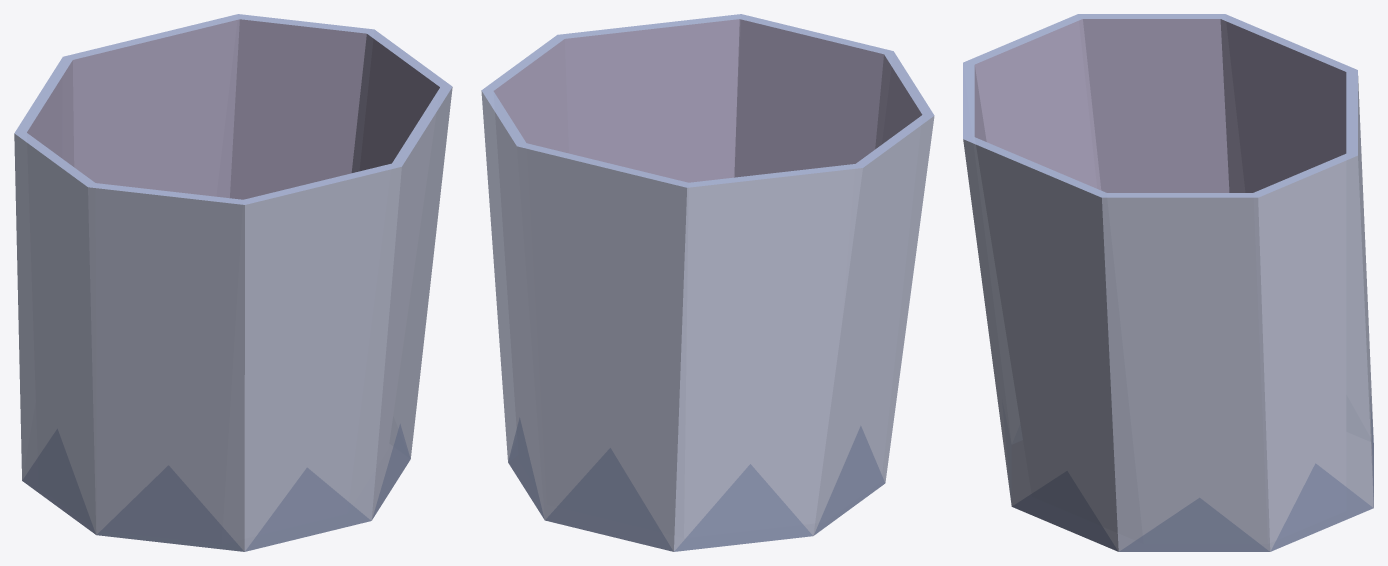
The model's file is Cup3.dae.
3 renders of one model, left to right at view 1: azimuth 30°, elevation 25°; view 2: azimuth 150°, elevation 25°; view 3: azimuth 270°, elevation 25°, orthographic. The views are drawn at different scales.
Visible parts, largest first — view 1: SketchUp (×9); view 2: SketchUp (×8); view 3: SketchUp (×6).
Boxes of the visible parts, <box> form: SketchUp (×9): <box>14,14,452,551</box>; SketchUp (×8): <box>481,14,934,551</box>; SketchUp (×6): <box>963,14,1373,551</box>.
Size of the model in its own units: 101 by 95.47 by 95.04.
